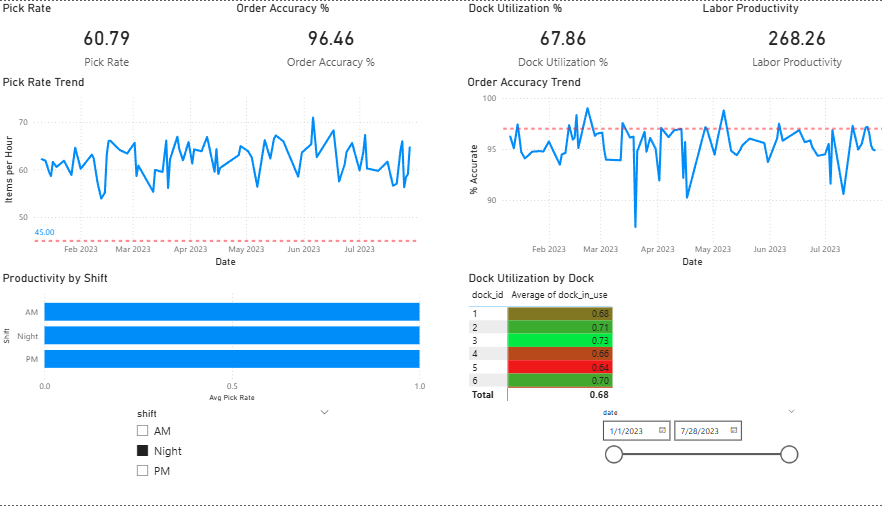

What the dashboard file says about the page in this screenshot:
{"tool":"powerbi","page":{"name":"Page 1","canvas":[1280,720],"ordinal":0},"visuals":[{"type":"card","title":"Pick Rate","fields":{"Values":["warehouse_ops.Pick Rate"]},"box":[0,0,307.5,105],"z":0},{"type":"card","title":"Order Accuracy %","fields":{"Values":["warehouse_ops.Order Accuracy %"]},"box":[333.8,0,280,105],"z":1000},{"type":"card","title":"Dock Utilization %","fields":{"Values":["warehouse_ops.Dock Utilization %"]},"box":[666.2,0,280,105],"z":2000},{"type":"card","title":"Labor Productivity","fields":{"Values":["warehouse_ops.Labor Productivity"]},"box":[1000,0,280,105],"z":3000},{"type":"lineChart","title":"Pick Rate Trend","fields":{"Category":["daily_kpis.date"],"Y":["Sum(daily_kpis.avg_pick_rate)"]},"box":[0,105,613.8,280],"z":4000},{"type":"lineChart","title":"Order Accuracy Trend","fields":{"Category":["daily_kpis.date"],"Y":["Sum(daily_kpis.avg_accuracy_pct)"]},"box":[665,105,613.8,280],"z":5000},{"type":"clusteredBarChart","title":"Productivity by Shift","fields":{"Category":["shift_kpis.shift"],"Y":["CountNonNull(shift_kpis.total_orders)"]},"box":[0,385,613.8,191.2],"z":5001},{"type":"pivotTable","title":"Dock Utilization by Dock","fields":{"Rows":["warehouse_ops.dock_id"],"Values":["Avg(warehouse_ops.dock_in_use)"]},"box":[666.2,385,613.8,191.2],"z":5002},{"type":"slicer","fields":{"Values":["warehouse_ops.shift"]},"box":[183.8,576.2,300,143.8],"z":5003},{"type":"slicer","fields":{"Values":["daily_kpis.date"]},"box":[850,576.2,300,143.8],"z":5004}]}

Visuals, with their boxes in screenshot pixels (x1, y1, x2, y2), scaled from the page's 1280x720 canvas onto the 886x506 screenshot:
"Pick Rate" card: rect(0, 0, 213, 74)
"Order Accuracy %" card: rect(231, 0, 425, 74)
"Dock Utilization %" card: rect(461, 0, 655, 74)
"Labor Productivity" card: rect(692, 0, 885, 74)
"Pick Rate Trend" lineChart: rect(0, 74, 425, 271)
"Order Accuracy Trend" lineChart: rect(460, 74, 885, 271)
"Productivity by Shift" clusteredBarChart: rect(0, 271, 425, 405)
"Dock Utilization by Dock" pivotTable: rect(461, 271, 885, 405)
slicer - warehouse_ops.shift: rect(127, 405, 335, 505)
slicer - daily_kpis.date: rect(588, 405, 796, 505)
